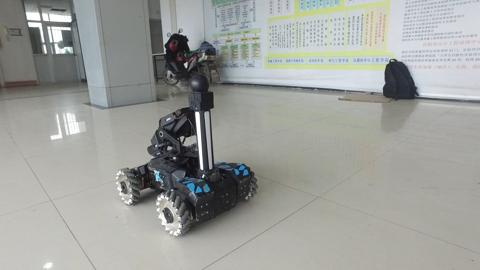bag: (379, 55, 425, 107)
chariot: (114, 75, 262, 240)
